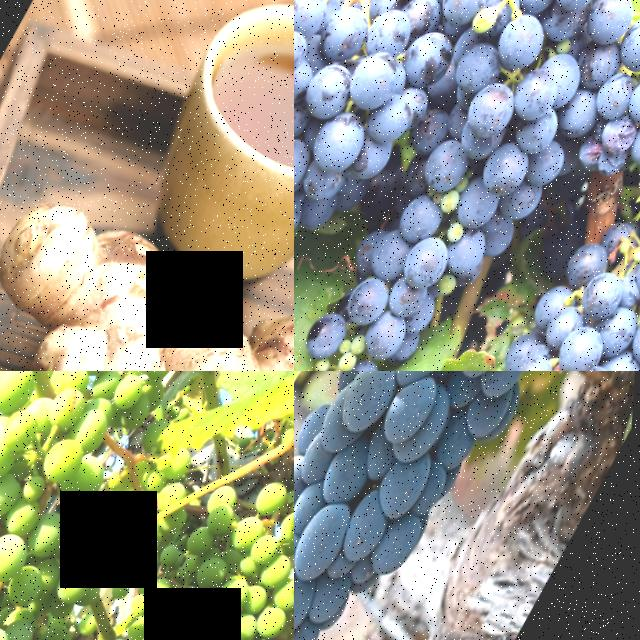ginger: (0, 171, 294, 371)
grapes: (294, 0, 640, 371), (294, 371, 599, 640), (294, 0, 465, 371), (0, 371, 194, 640), (491, 167, 640, 371), (105, 482, 294, 640)
